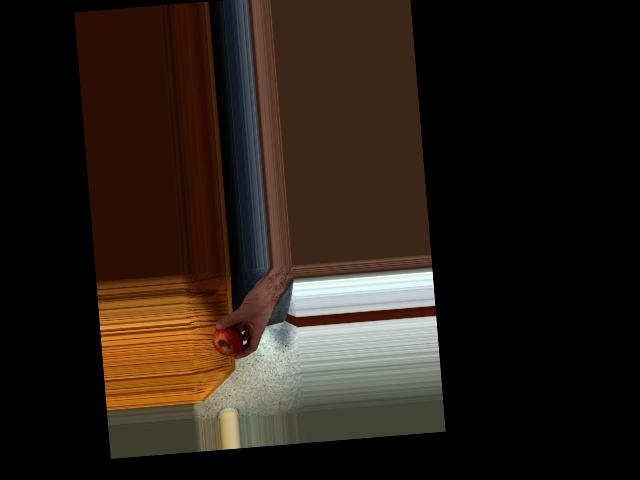apple: (210, 320, 245, 359)
